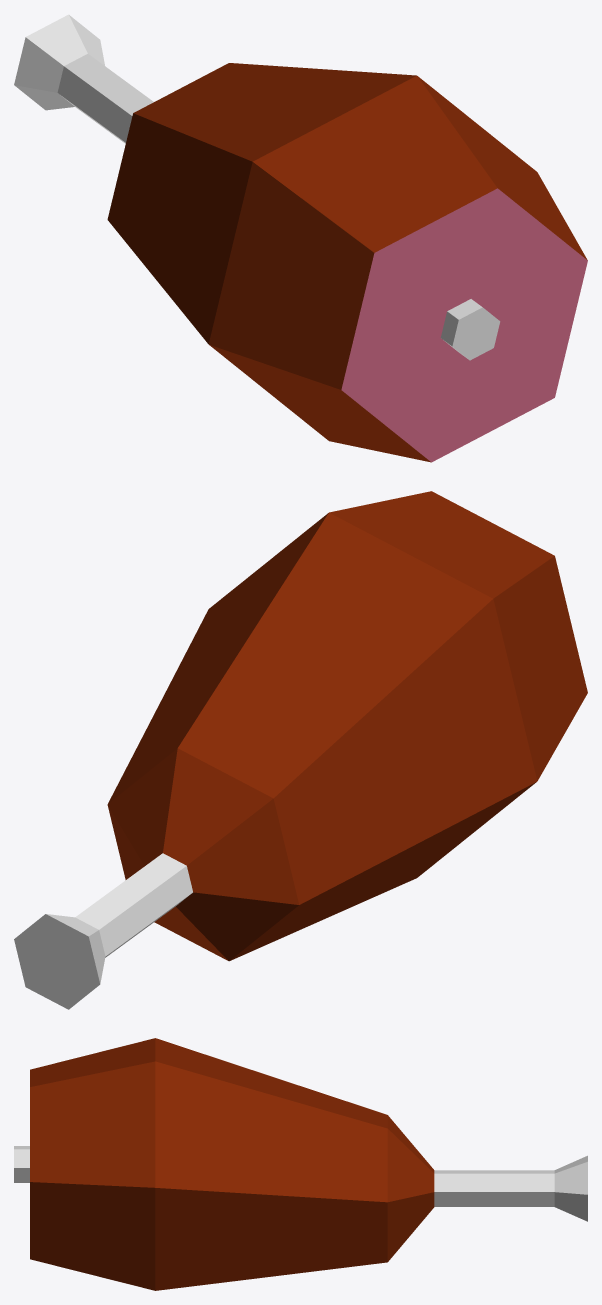
The model's file is Meat.fbx.
3 renders of one model, top to bottom at view 1: azimuth 30°, elevation 25°; view 2: azimuth 150°, elevation 25°; view 3: azimuth 270°, elevation 25°, orthographic. The views are drawn at different scales.
Visible parts, largest first — view 1: Chunk; view 2: Chunk; view 3: Chunk.
Part boxes in pixels (x1,y1,x2,y2): Chunk: (14,14,587,462); Chunk: (14,491,587,1009); Chunk: (14,1038,587,1290).
Size of the model in its own units: 0.3895 by 0.3895 by 0.86.
